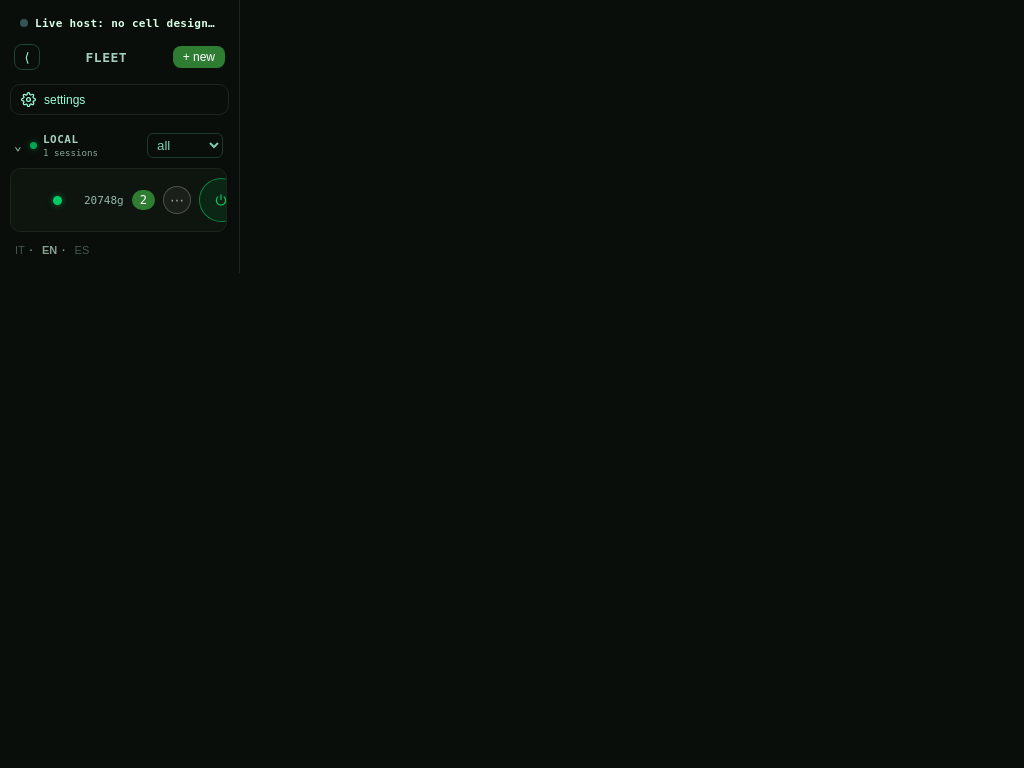
Test: Nuvola al passaggio sul pallino › il CLICK sul pallino resta il peek completo (gesto invariato) e chiude la nuvola
Step 1. Hover over the button with class "nc-side-peek" → [58, 200], box [47,192,68,208]
Wait 310 ms
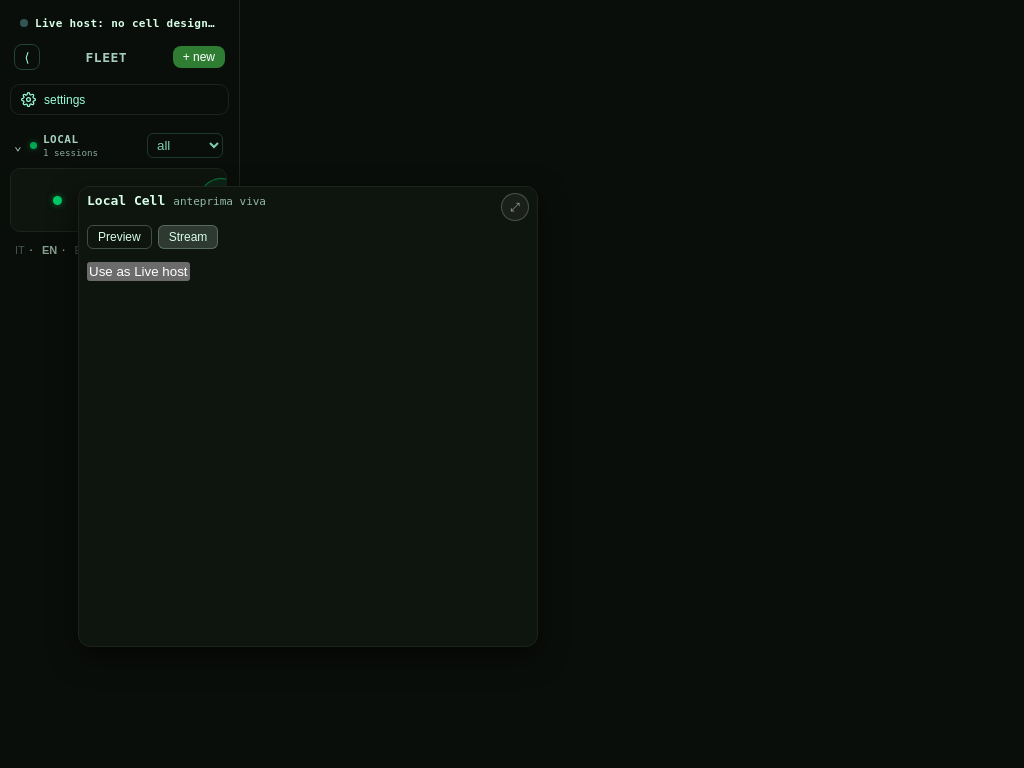
Step 2. Click the button with class "nc-side-peek" → [58, 200], box [47,192,68,208]
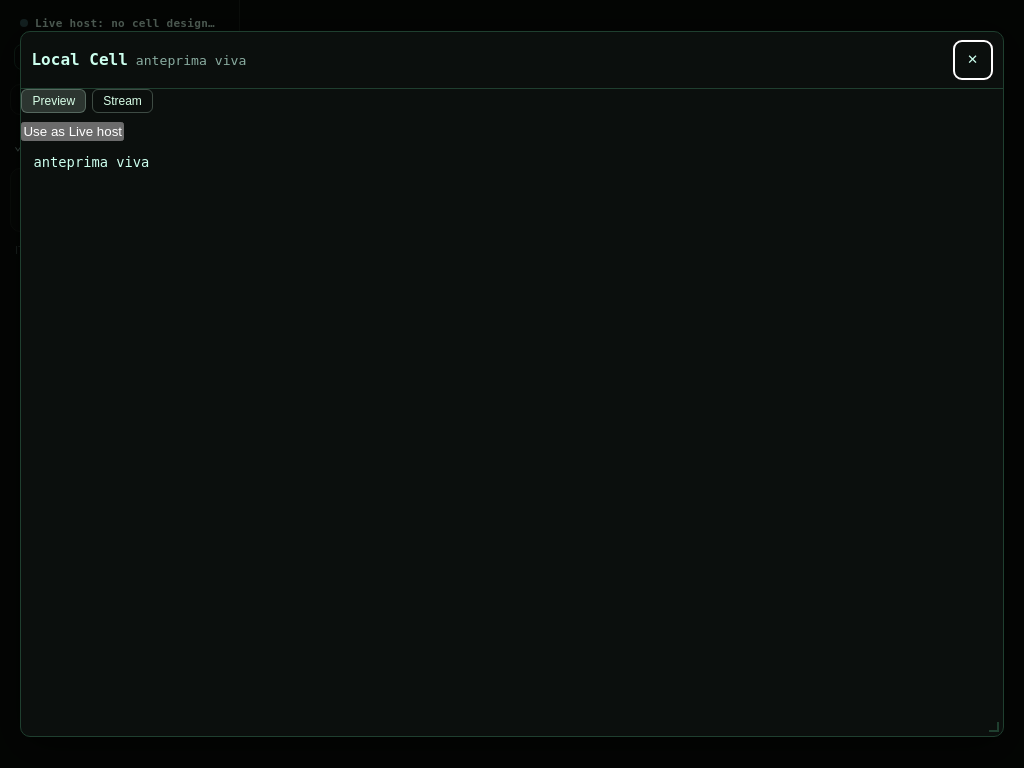
Result: the dialog "Local Cell" is shown
Result: the element with test id "peek-cloud" is gone
